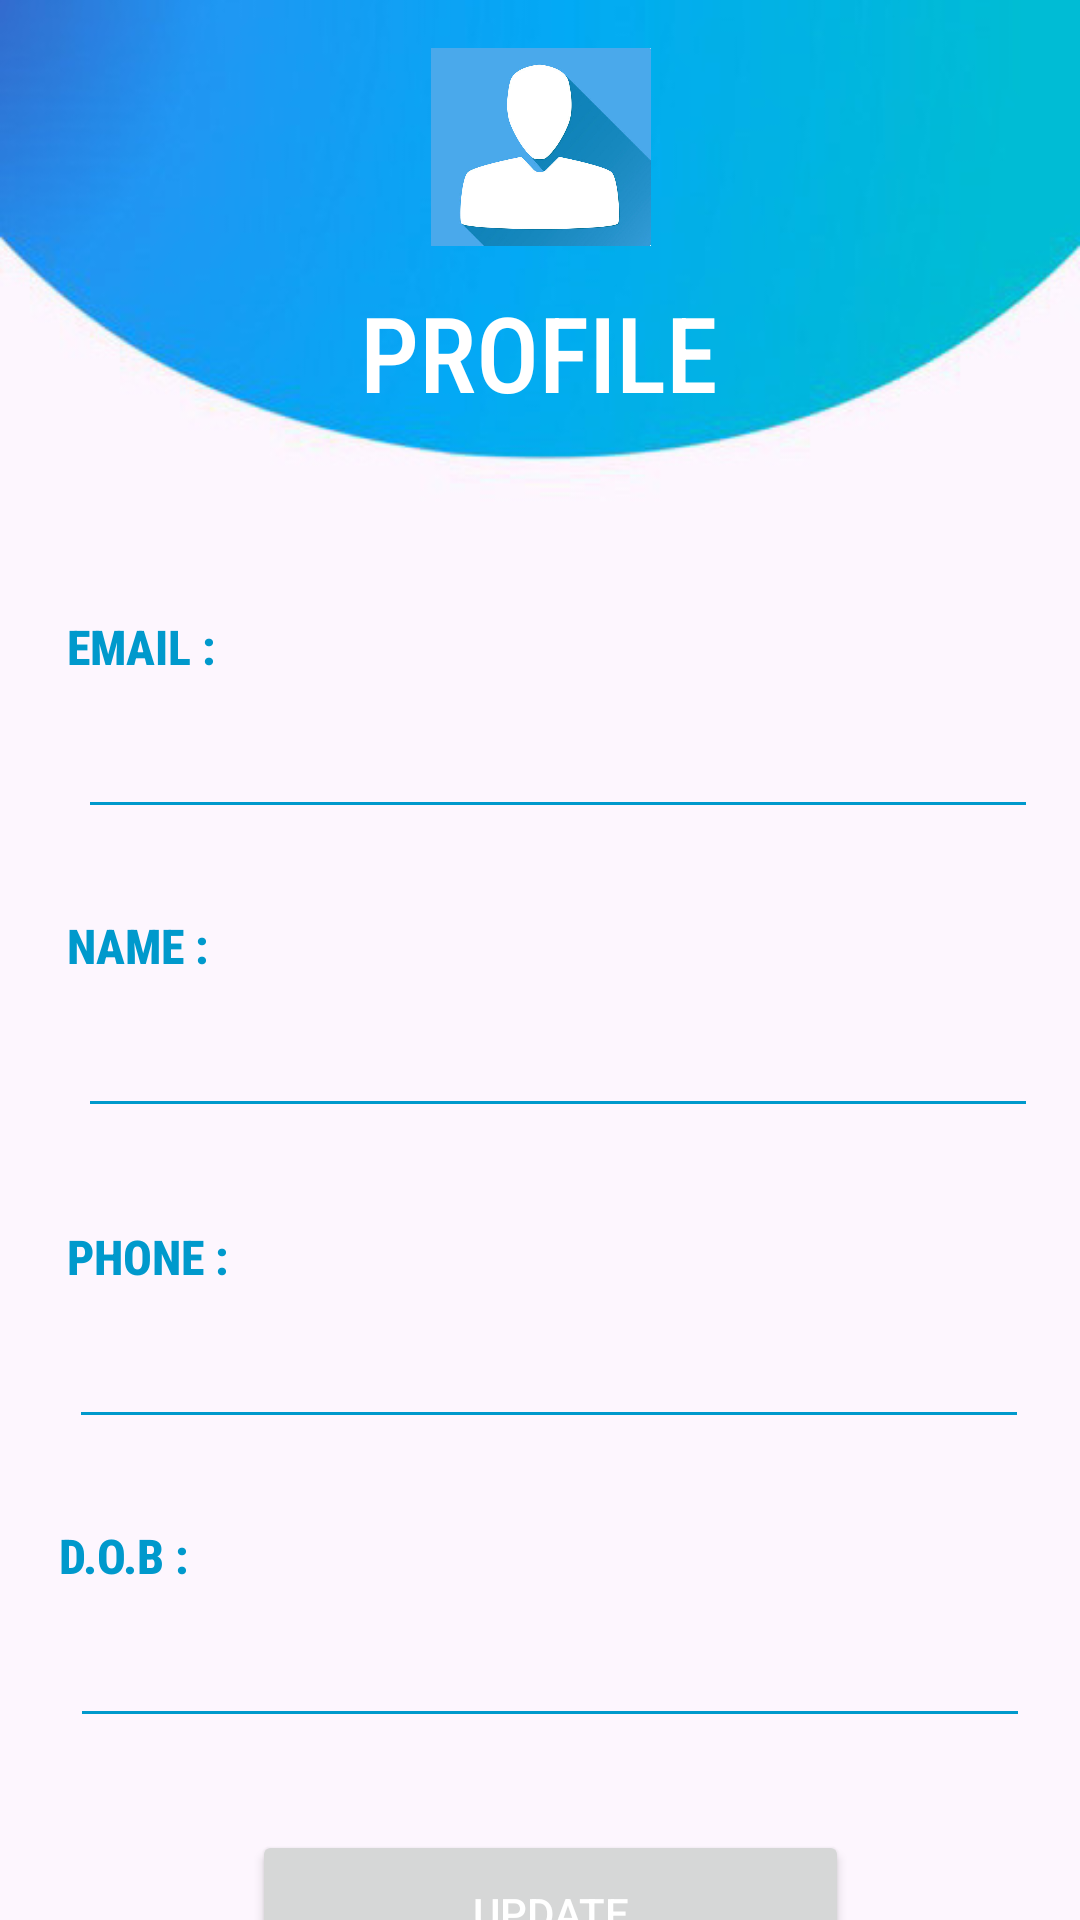

Screen size 1080 × 1920. Icon name, then its box in pixels as box=[x1, y1, x2, y2]:
user: box=[431, 48, 651, 246]
